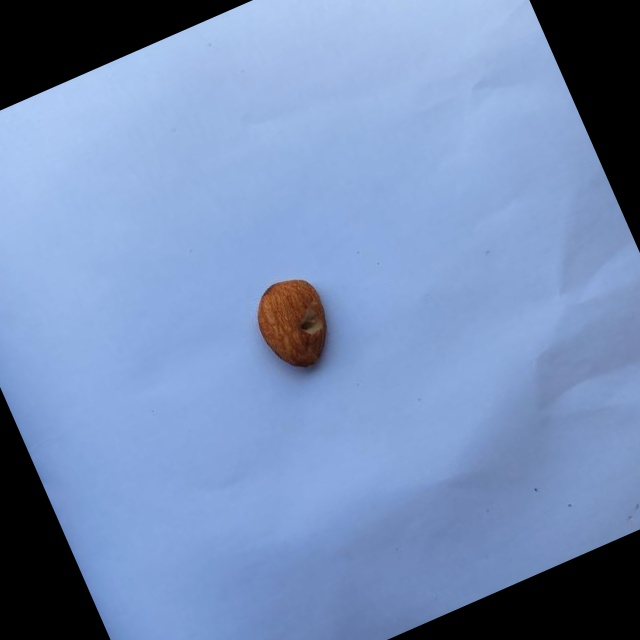grade3: (242, 264, 350, 384)
